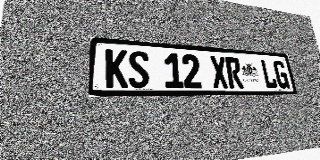1: (163, 53, 184, 88)
2: (181, 54, 202, 88)
G: (272, 60, 290, 88)
K: (106, 49, 128, 88)
L: (260, 59, 278, 88)
R: (225, 57, 244, 88)
S: (128, 50, 150, 88)
X: (209, 56, 229, 88)
